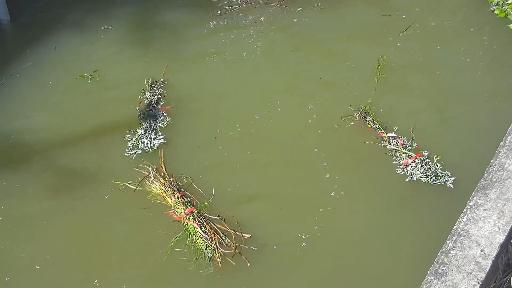leaf: (76, 67, 97, 85)
twig: (120, 157, 265, 277), (349, 51, 470, 178), (128, 62, 181, 163), (475, 0, 512, 22)
